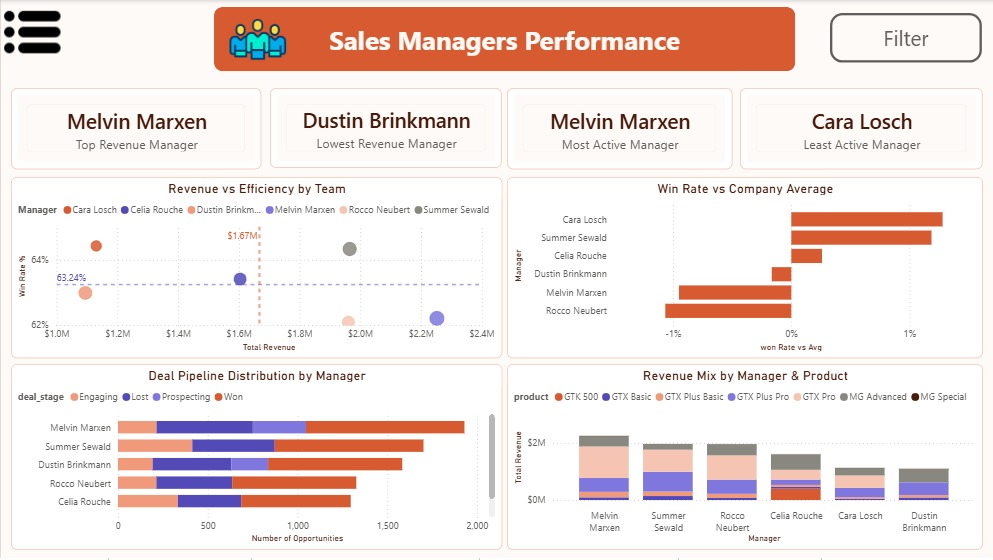

What the dashboard file says about the page in this screenshot:
{"tool":"powerbi","page":{"name":"Sales Managers Performance","canvas":[1280,720],"ordinal":3},"visuals":[{"type":"shape","box":[274.2,8.9,750,82.9],"z":0,"group":"g1"},{"type":"clusteredBarChart","title":"Win Rate vs Company Average","fields":{"Category":["sales_teams_dim.manager"],"Y":["Dax_measures.won Rate vs Avg"]},"box":[653.4,228.2,613.7,233.9],"z":0},{"type":"image","box":[282.8,14.6,94.3,72.9],"z":1000,"group":"g1"},{"type":"scatterChart","title":"Revenue vs Efficiency by Team","fields":{"X":["Dax_measures.Total Revenue"],"Y":["Dax_measures.Win Rate %"],"Size":["Dax_measures.Total Deals"],"Series":["sales_teams_dim.manager"]},"box":[12.8,228.2,633.5,233.9],"z":1000},{"type":"columnChart","title":"Revenue Mix by Manager & Product","fields":{"Category":["sales_teams_dim.manager"],"Y":["Dax_measures.Total Revenue"],"Series":["products_dim.product"]},"box":[653.4,469.1,613.7,239.5],"z":2000},{"type":"barChart","title":"Deal Pipeline Distribution by Manager","fields":{"Category":["sales_teams_dim.manager"],"Y":["CountNonNull(sales_pipeline.opportunity_id)"],"Series":["sales_pipeline.deal_stage"]},"box":[12.8,469.1,633.5,239.5],"z":3000},{"type":"group","id":"g1","title":"Group 1","box":[274.2,8.9,750,82.9],"z":4000},{"type":"cardVisual","fields":{"Data":["Min(sales_teams_dim.Manager)"]},"box":[347.2,113.4,299.1,103.5],"z":5000},{"type":"cardVisual","fields":{"Data":["Min(sales_teams_dim.Manager)"]},"box":[653.4,113.4,290.6,104.9],"z":6000},{"type":"cardVisual","fields":{"Data":["Min(sales_teams_dim.Manager)"]},"box":[953.9,113.4,313.2,104.9],"z":8000},{"type":"cardVisual","fields":{"Data":["Min(sales_teams_dim.Manager)"]},"box":[12.8,113.4,323.1,104.9],"z":9000},{"type":"actionButton","box":[1069.2,17,195.9,63.9],"z":11000},{"type":"actionButton","box":[0,0,80.8,82.2],"z":12000}]}

Visuals, with their boxes in screenshot pixels (x1, y1, x2, y2), scaled from the page's 1280x720 canvas onto the 993x560 screenshot:
shape: {"x1": 213, "y1": 7, "x2": 795, "y2": 71}
"Win Rate vs Company Average" clusteredBarChart: {"x1": 507, "y1": 177, "x2": 983, "y2": 359}
image: {"x1": 219, "y1": 11, "x2": 293, "y2": 68}
"Revenue vs Efficiency by Team" scatterChart: {"x1": 10, "y1": 177, "x2": 501, "y2": 359}
"Revenue Mix by Manager & Product" columnChart: {"x1": 507, "y1": 365, "x2": 983, "y2": 551}
"Deal Pipeline Distribution by Manager" barChart: {"x1": 10, "y1": 365, "x2": 501, "y2": 551}
"Group 1" group: {"x1": 213, "y1": 7, "x2": 795, "y2": 71}
cardVisual - Min(sales_teams_dim.Manager): {"x1": 269, "y1": 88, "x2": 501, "y2": 169}
cardVisual - Min(sales_teams_dim.Manager): {"x1": 507, "y1": 88, "x2": 732, "y2": 170}
cardVisual - Min(sales_teams_dim.Manager): {"x1": 740, "y1": 88, "x2": 983, "y2": 170}
cardVisual - Min(sales_teams_dim.Manager): {"x1": 10, "y1": 88, "x2": 261, "y2": 170}
actionButton: {"x1": 829, "y1": 13, "x2": 981, "y2": 63}
actionButton: {"x1": 0, "y1": 0, "x2": 63, "y2": 64}
